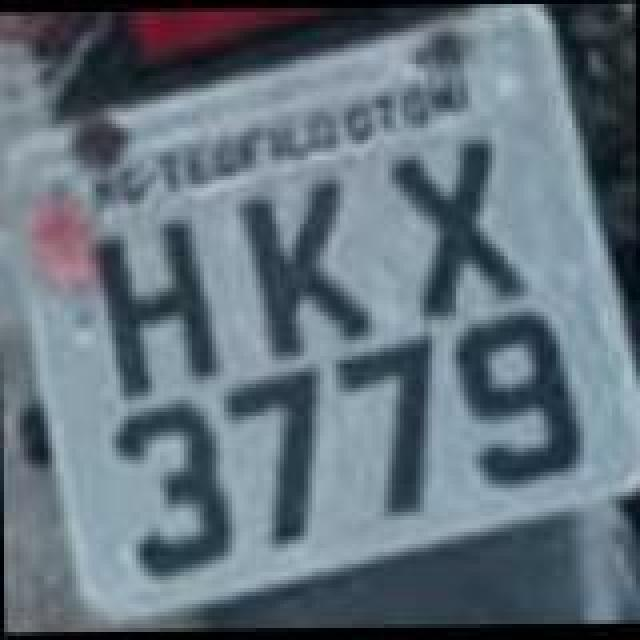3: (108, 400, 236, 576)
7: (342, 338, 442, 518), (230, 366, 330, 546)
9: (450, 312, 590, 488)
H: (90, 212, 230, 396)
K: (244, 174, 380, 362)
X: (386, 132, 526, 324)
